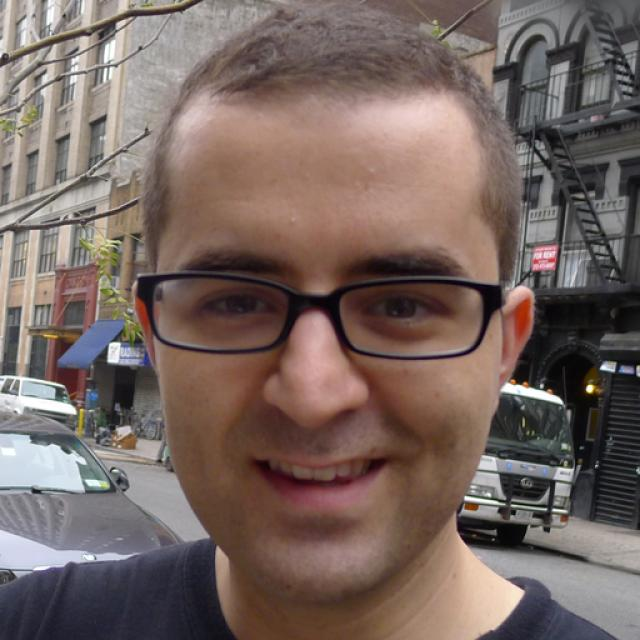Acne: (284, 208, 302, 234)
